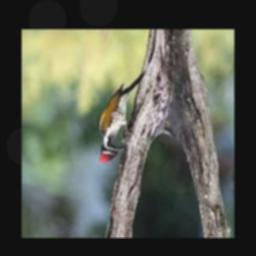Woodpecker: (100, 73, 145, 162)
